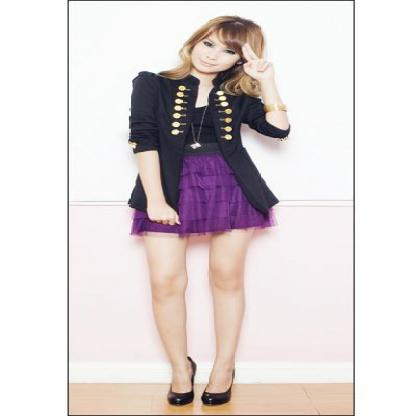jacket: (128, 74, 286, 218)
shirt: (178, 114, 220, 157)
shoe: (187, 391, 261, 415)
skirt: (132, 155, 274, 237)
